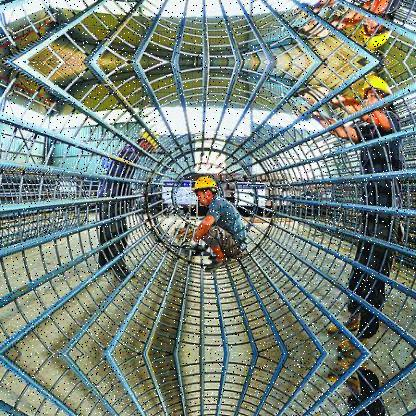helmet: (360, 70, 398, 108), (360, 12, 398, 50), (133, 122, 164, 156), (193, 171, 220, 203)
